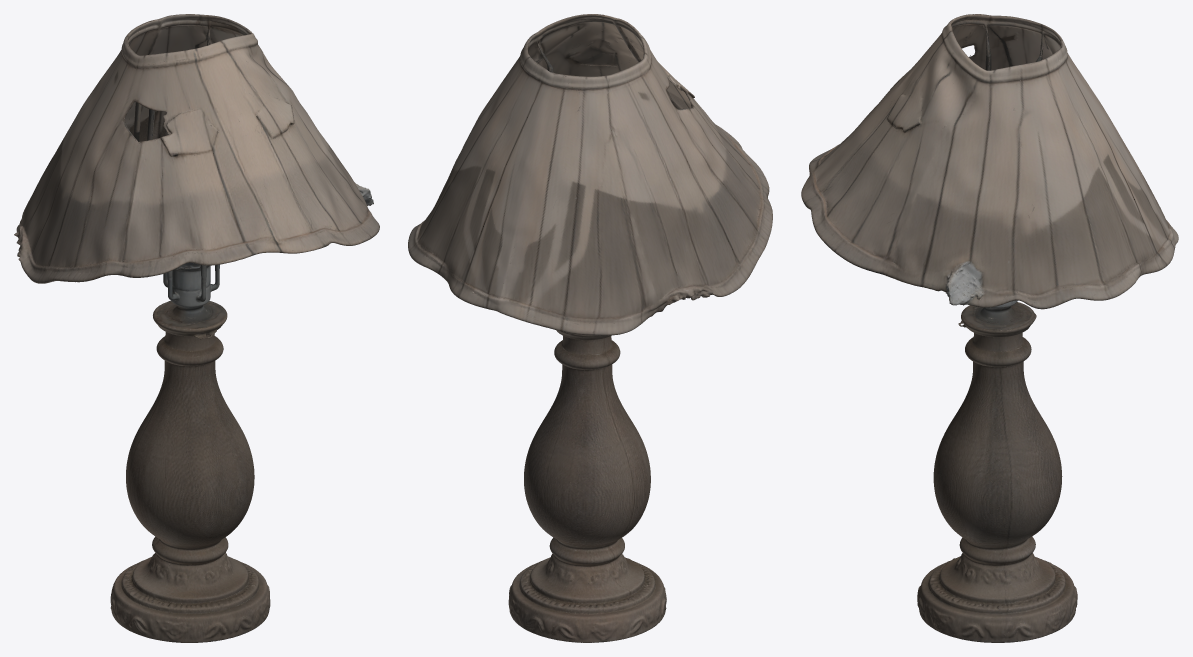
Rendered from lamp.glb.
The picture shows the model from 3 angles, left to right: view 1: azimuth 30°, elevation 25°; view 2: azimuth 150°, elevation 25°; view 3: azimuth 270°, elevation 25°; orthographic projection.
Size of the model in its own units: 1.13 by 2 by 1.17.
1 material, 1 textured.
